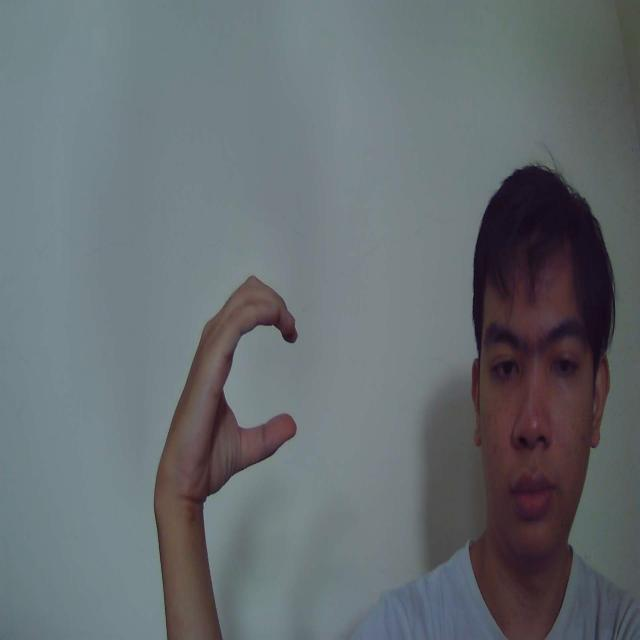C: (154, 274, 300, 498)
